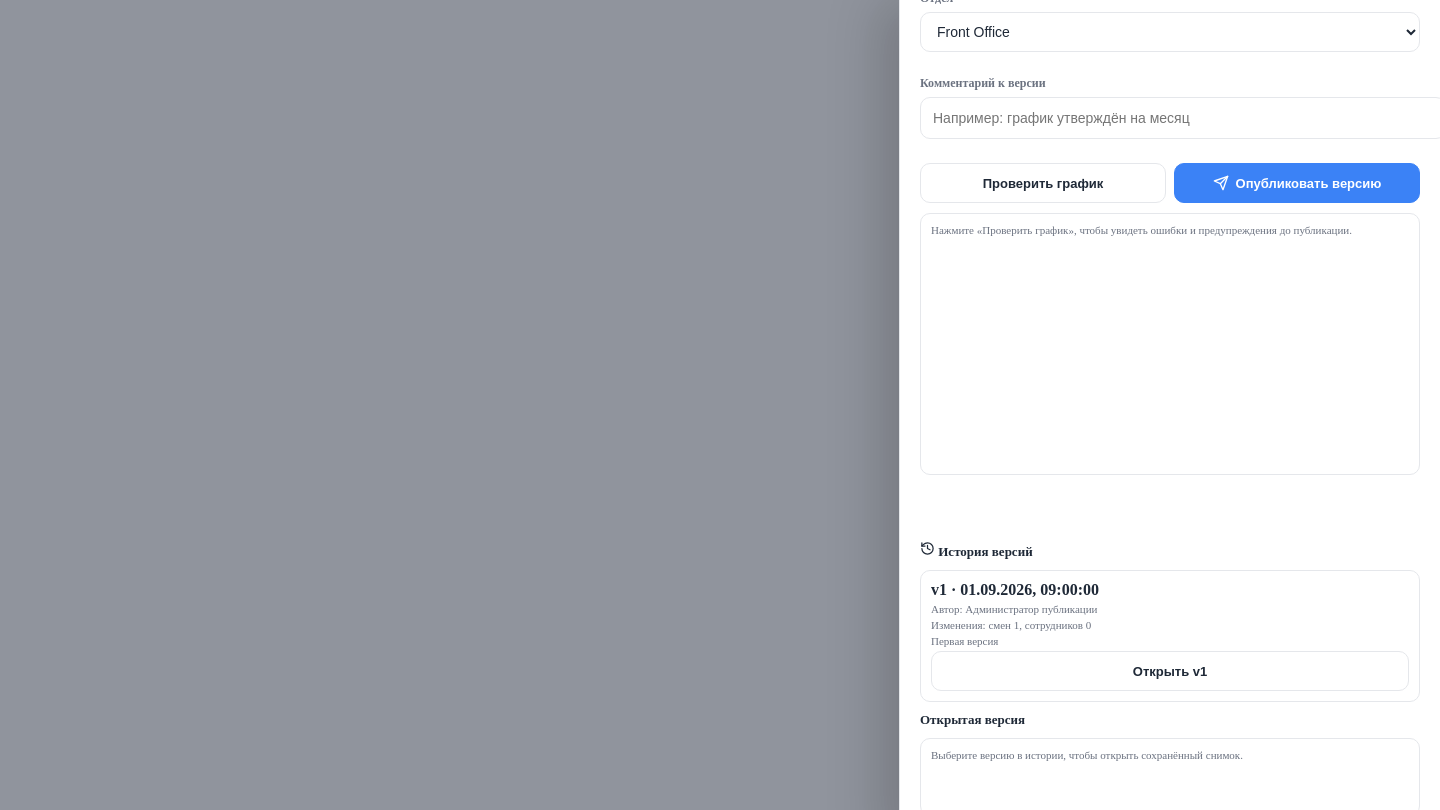
Test: schedule publication controls › opens an exact immutable version snapshot from history
(page scrolled)
Click the button "Открыть v1" at (1170, 671), box [931,651,1409,691]
(page scrolled)
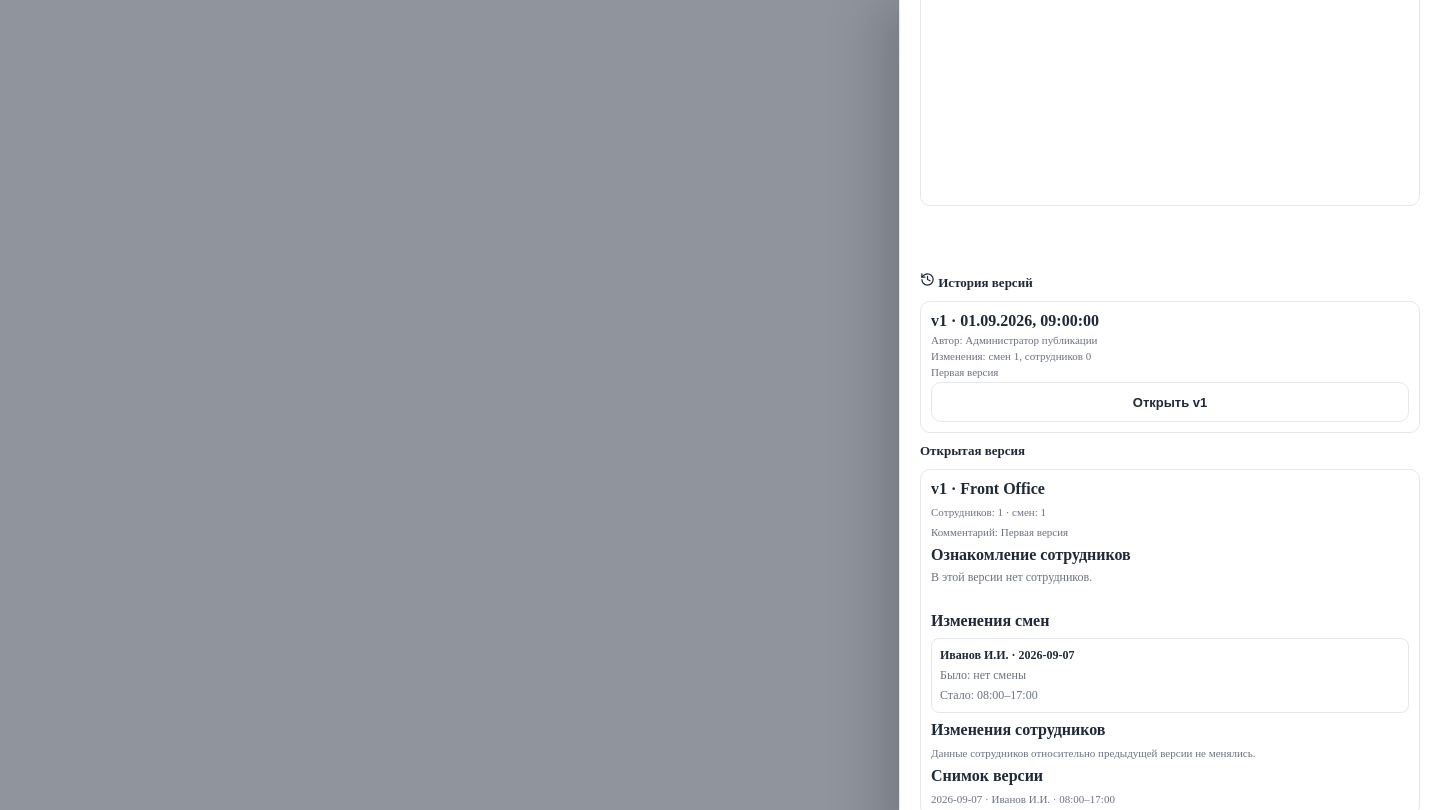
Check: the text "v1 · Front Office" is shown, box [931,480,1045,497]
Check: the text "Сотрудников: 1 · смен: 1" is shown, box [931,506,1046,518]
Check: the text "2026-09-07 · Иванов И.И. · 08:00–17:00" is shown, box [931,793,1115,805]
